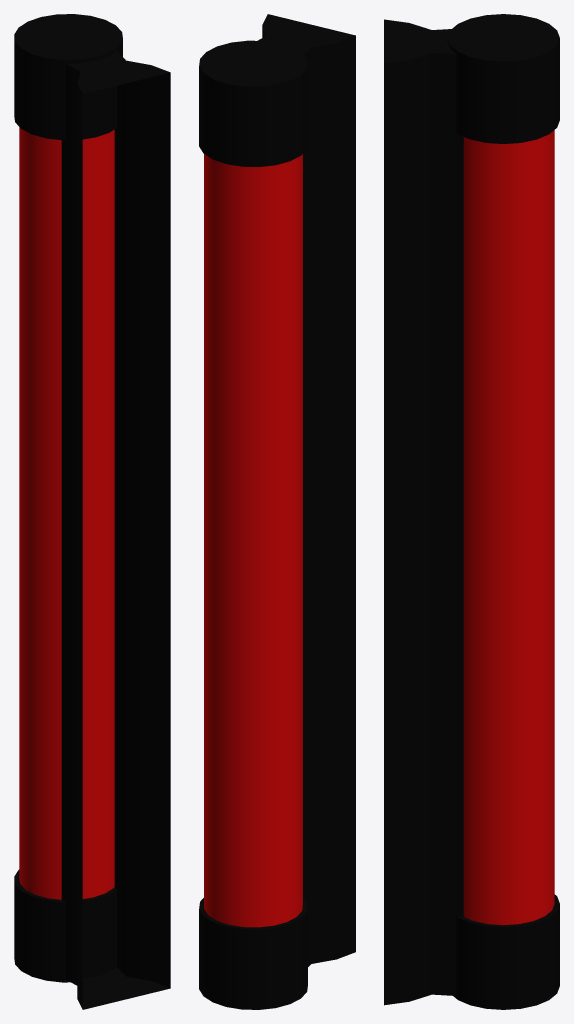
Rendered from SM_WallSconce_Tall.fbx.
The picture shows the model from 3 angles, left to right: view 1: azimuth 30°, elevation 25°; view 2: azimuth 150°, elevation 25°; view 3: azimuth 270°, elevation 25°; orthographic projection. The views are drawn at different scales.
Visible parts, largest first — view 1: SM_WallSconce_Tall; view 2: SM_WallSconce_Tall; view 3: SM_WallSconce_Tall.
Boxes of the visible parts, box(x1,y1,x2,y2) form: SM_WallSconce_Tall: box(14, 14, 170, 1009); SM_WallSconce_Tall: box(199, 14, 355, 1009); SM_WallSconce_Tall: box(384, 14, 559, 1009).
Bounding box in the file's own units: 1.08 × 10.01 × 1.68.
